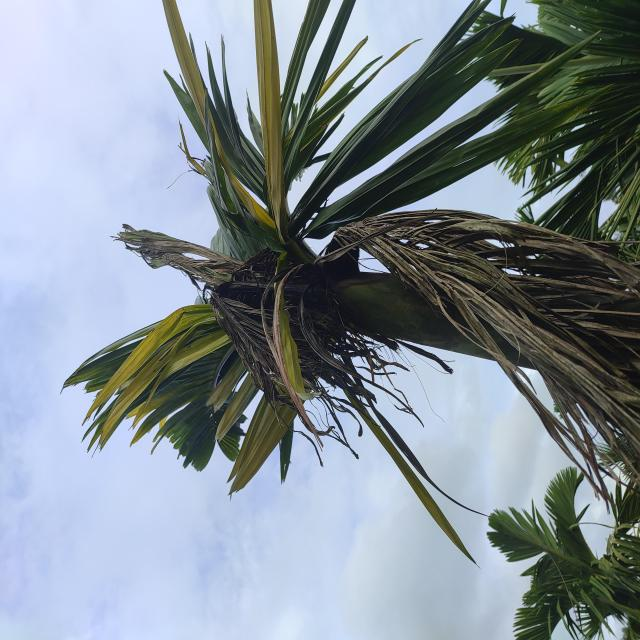Bud_Borer: (94, 120, 448, 493)
